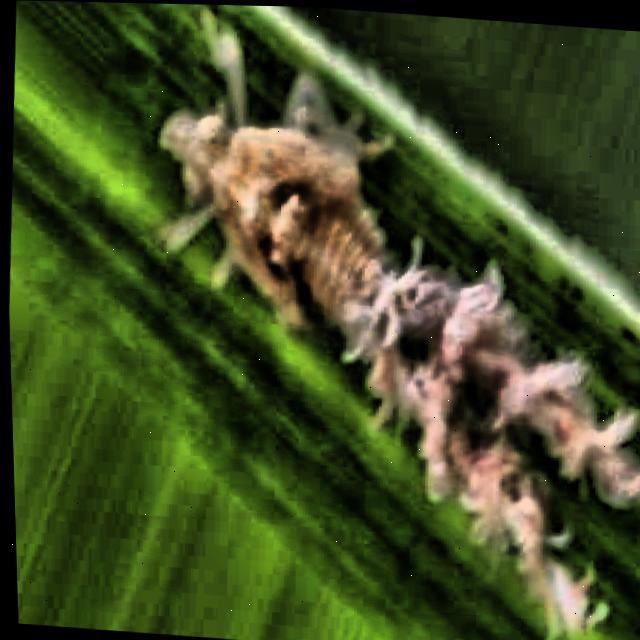Pyrilla-perpusilla: (84, 16, 640, 640)
